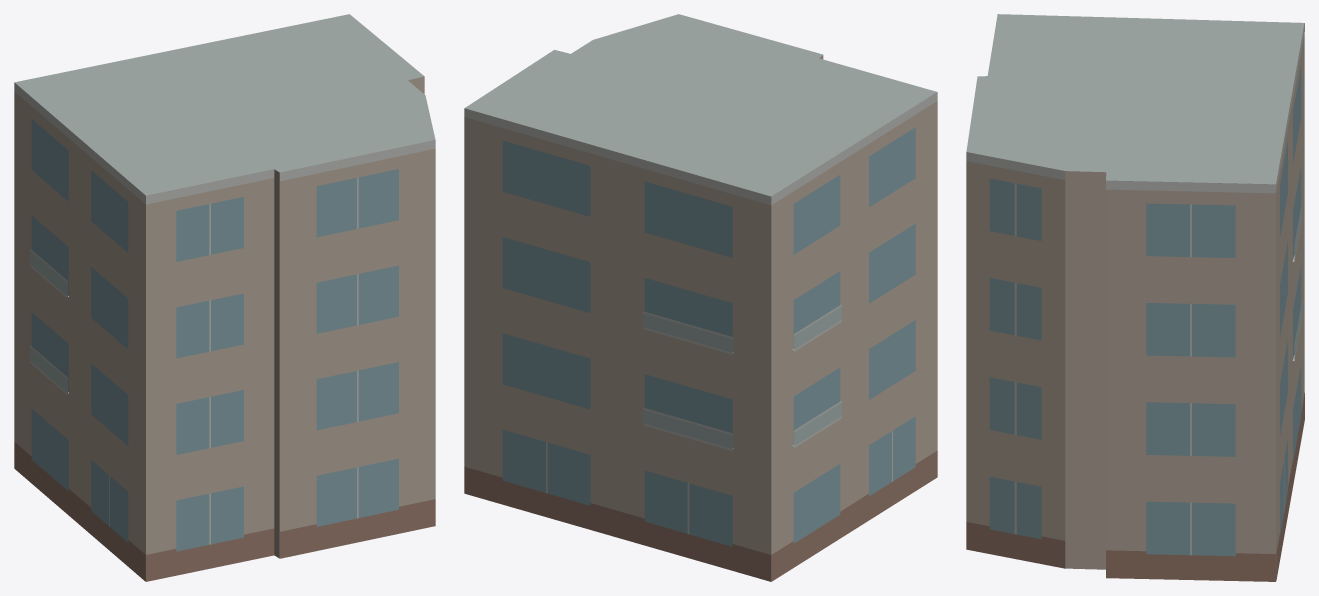
Rendered from survey-upis-32501760.glb.
3 views of the same model, side by side, from view 1: azimuth 30°, elevation 25°; view 2: azimuth 150°, elevation 25°; view 3: azimuth 270°, elevation 25° (orthographic). The views are drawn at different scales.
Parts seen in each view (by area): view 1: survey-upis-32501760.tmp; view 2: survey-upis-32501760.tmp; view 3: survey-upis-32501760.tmp.
Boxes of the visible parts, box(x1,y1,x2,y2) form: survey-upis-32501760.tmp: box(14, 14, 435, 581); survey-upis-32501760.tmp: box(464, 14, 937, 581); survey-upis-32501760.tmp: box(966, 14, 1304, 581).
Size of the model in its own units: 9.84 by 10.7 by 8.26.
